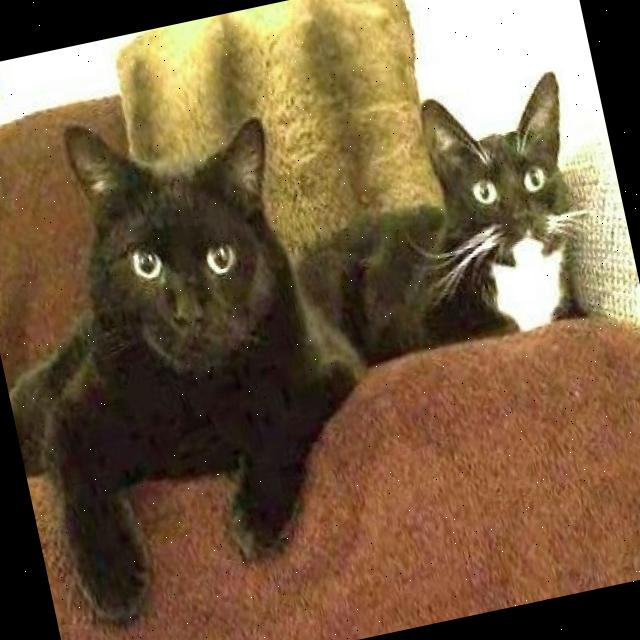american_shorthair_cat: (388, 41, 610, 308)
bombay_cat: (39, 70, 325, 414)
